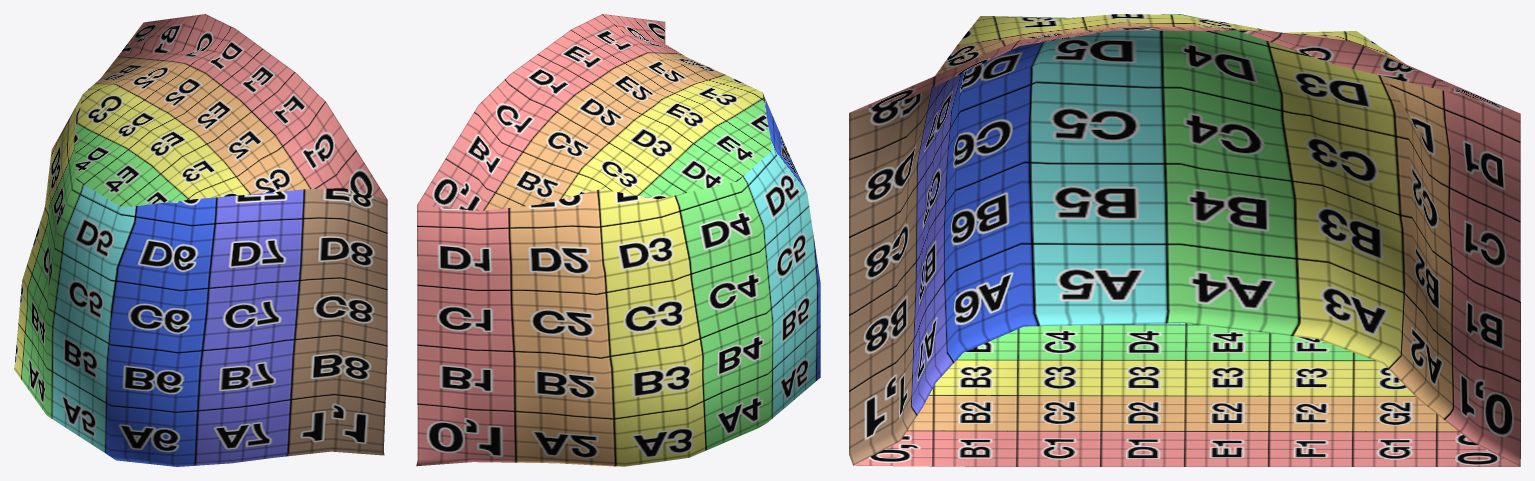
File: grotte_startLeft.fbx
The picture shows the model from 3 angles, left to right: view 1: azimuth 30°, elevation 25°; view 2: azimuth 150°, elevation 25°; view 3: azimuth 270°, elevation 25°; orthographic projection. The views are drawn at different scales.
Visible parts, largest first — view 1: grotte_startLeft; view 2: grotte_startLeft; view 3: grotte_startLeft.
Part boxes in pixels (left/top/right/bottom): grotte_startLeft: left=14, top=14, right=387, bottom=466; grotte_startLeft: left=416, top=14, right=820, bottom=466; grotte_startLeft: left=849, top=14, right=1520, bottom=466.
Bounding box in the file's own units: 440 × 602 × 840.
Materials: 1 (1 with a texture image).
